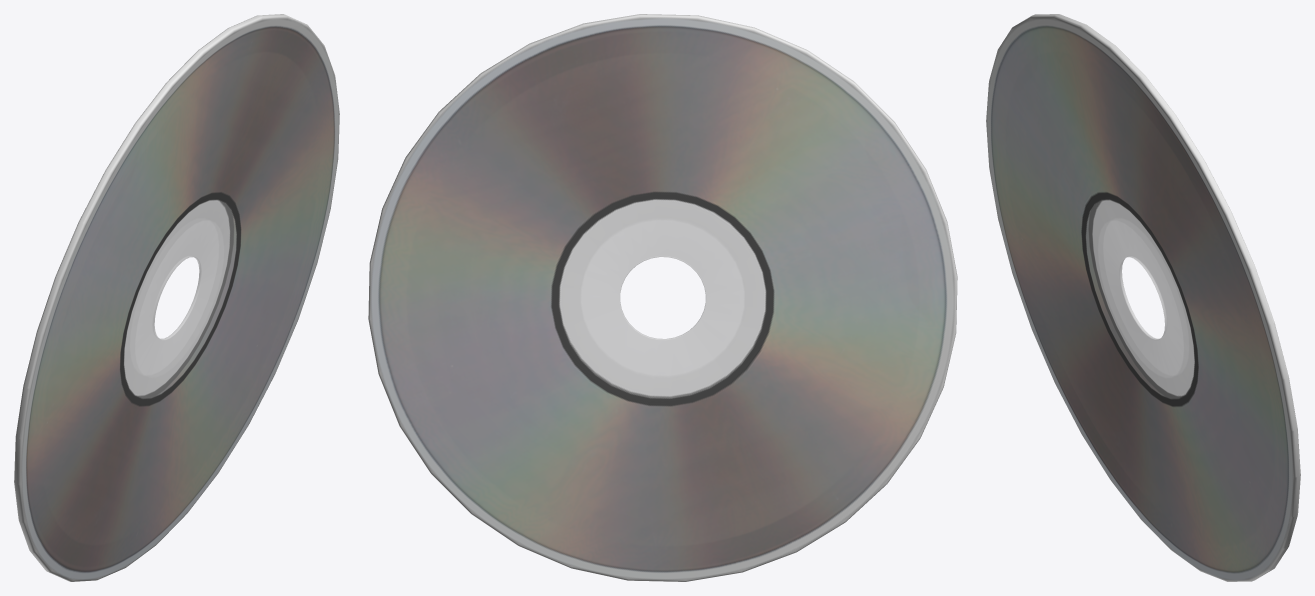
Rendered from cd_disc.glb.
The picture shows the model from 3 angles, left to right: view 1: azimuth 30°, elevation 25°; view 2: azimuth 150°, elevation 25°; view 3: azimuth 270°, elevation 25°; orthographic projection. The views are drawn at different scales.
Parts seen in each view (by area): view 1: Object_2; view 2: Object_2; view 3: Object_2.
Part boxes in pixels (x1,y1,x2,y2): Object_2: (14, 14, 339, 581); Object_2: (368, 14, 957, 581); Object_2: (986, 14, 1300, 581).
Bounding box in the file's own units: 3.76 × 4.22 × 2.22.
Materials: 1 (1 with a texture image).
